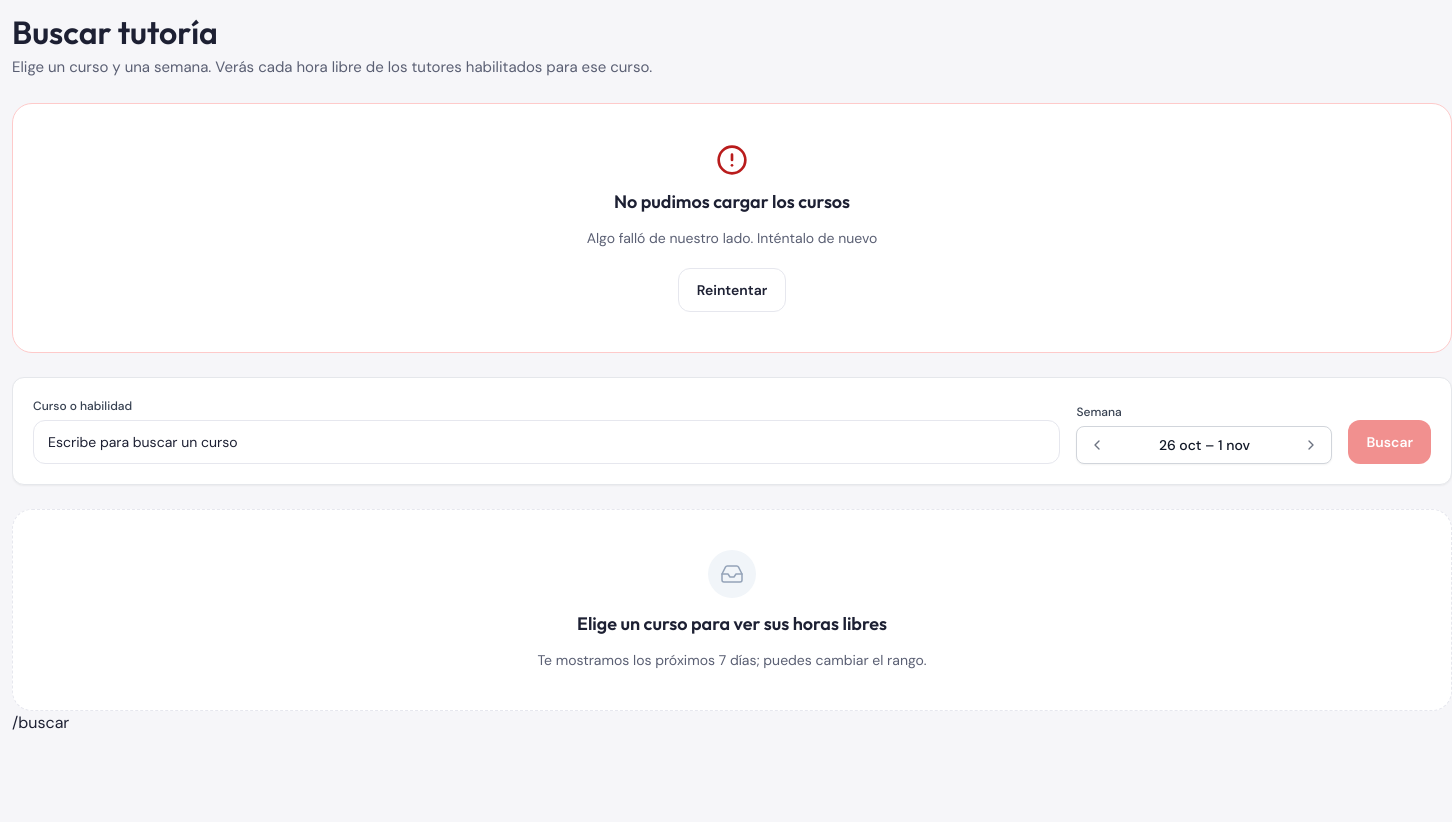
Scenario: FE-10 SearchPage › says the courses could not be loaded and lets the person retry
Expected: the heading "No pudimos cargar los cursos" is shown, [614,188,850,216]
Click the button "Reintentar".
click(732, 290)  # box [678,268,786,312]
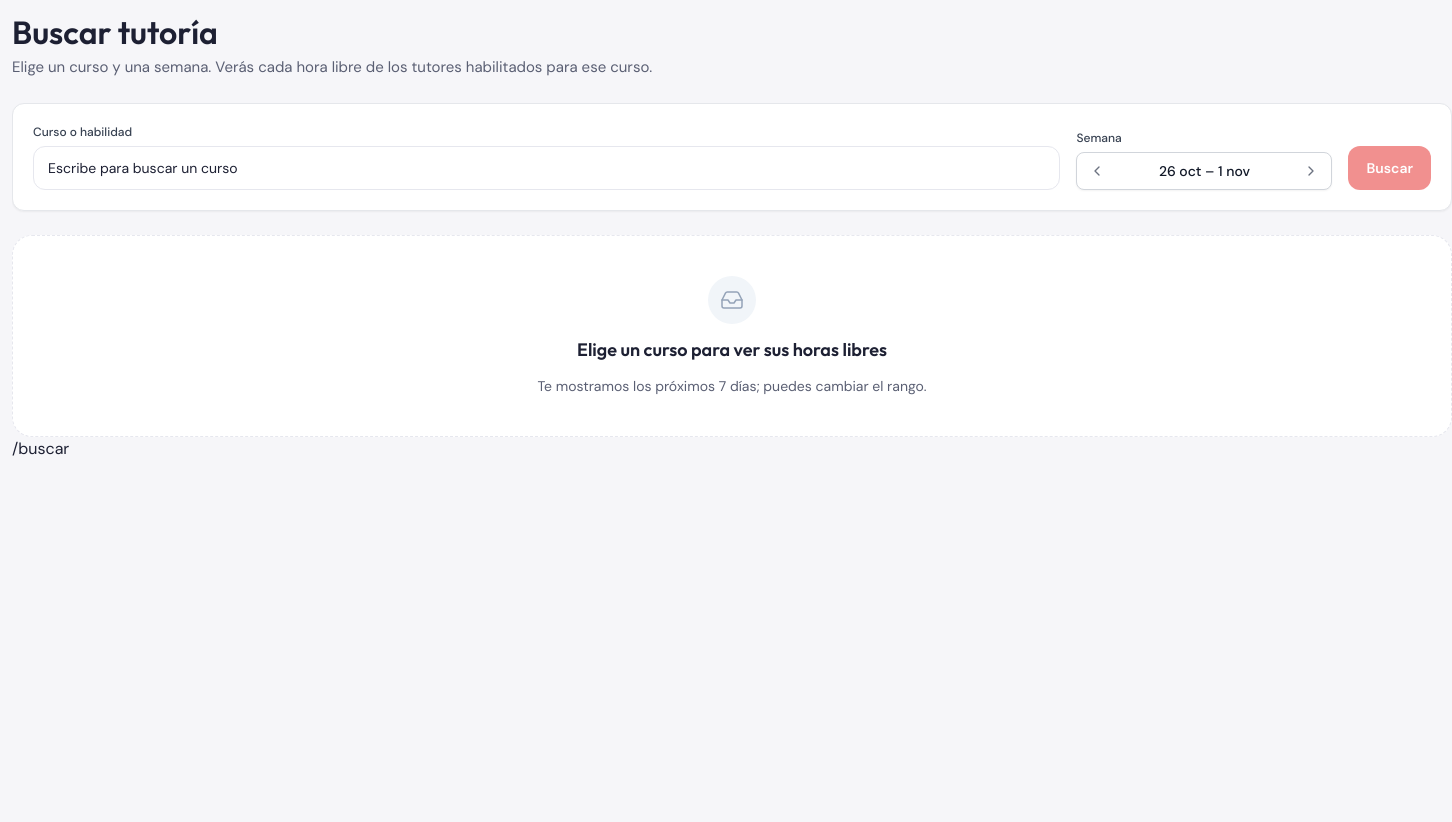
Expected: the heading "No pudimos cargar los cursos" is gone
